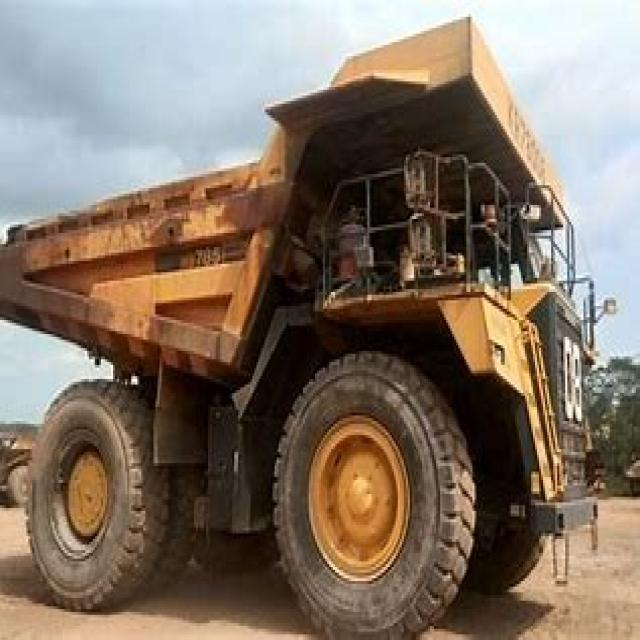dump_truck: (6, 11, 588, 637)
